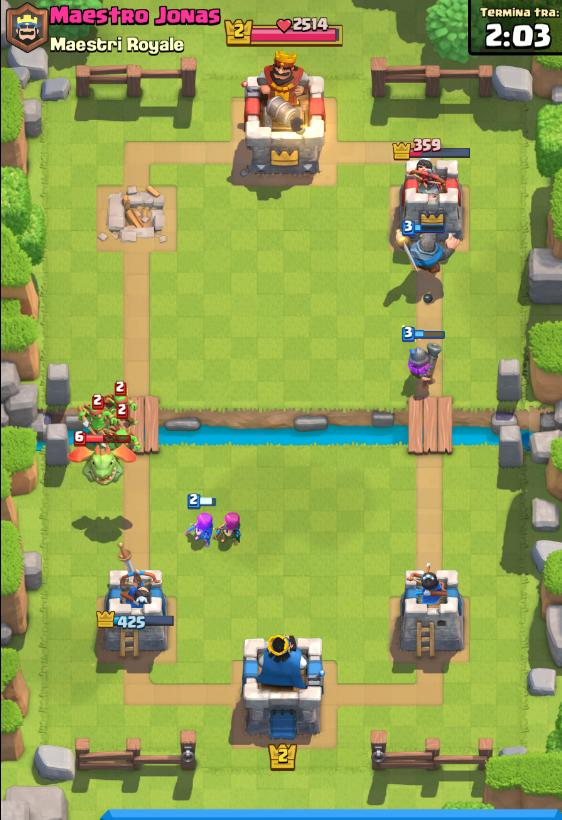ally_archer: (186, 499, 220, 548), (218, 504, 246, 546)
ally_knight: (404, 223, 458, 277)
ally_musketeer: (399, 324, 449, 398)
enemy_baby_dragon: (70, 426, 135, 484)
enemy_spear_goblin: (105, 403, 140, 455), (85, 395, 120, 442), (110, 402, 133, 454)
